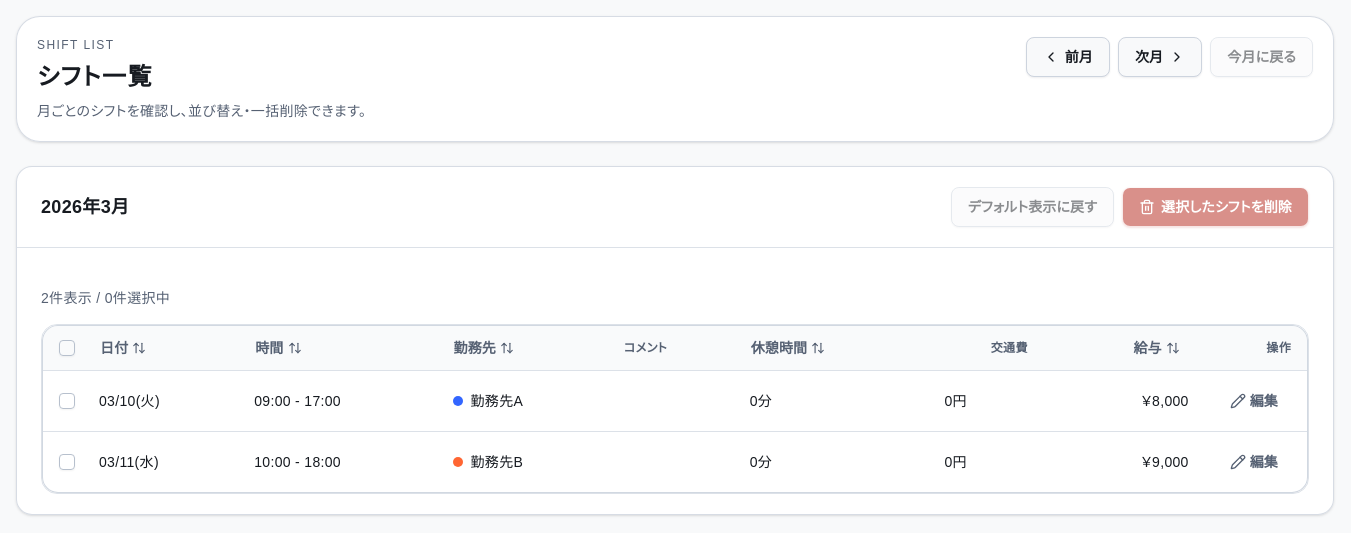
Test: ShiftListPageClient Undo deletion › waits for month-query cancellation before removing selected shifts
Expected: the row "03/10(火) 09:00 - 17:00 勤務先A 0分 0円 ￥8,000 編集" is shown, left=43, top=370, right=1307, bottom=431
Click the checkbox named "03/10(火)のシフトを選択".
click(67, 400)  # box left=59, top=392, right=75, bottom=408
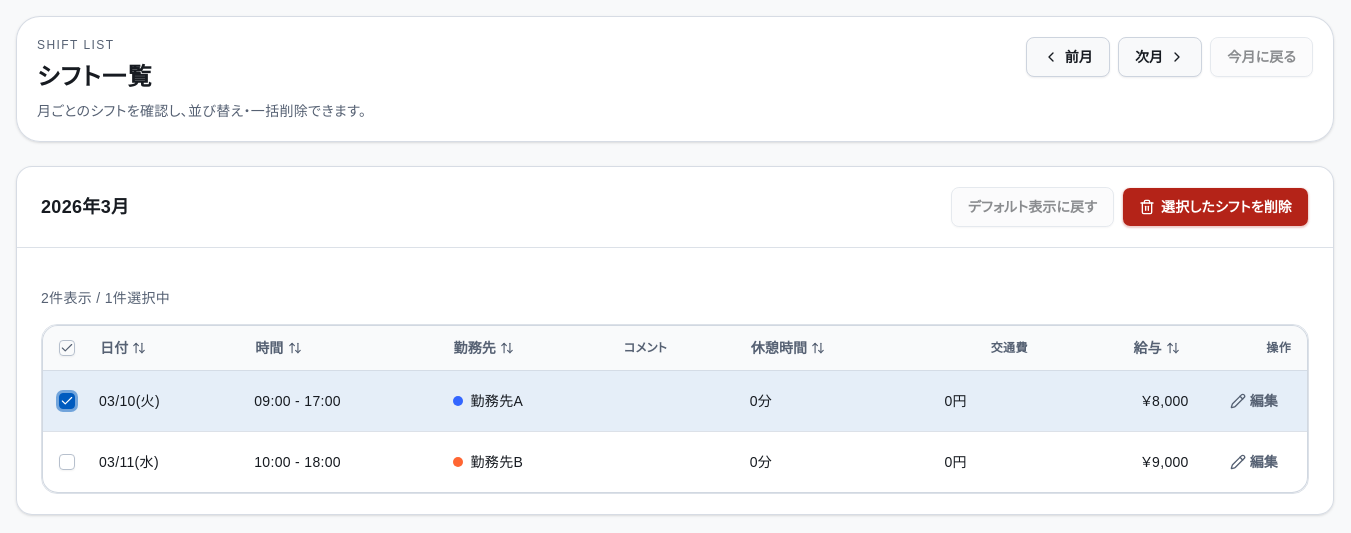
Click the button "選択したシフトを削除".
click(1216, 207)  # box left=1122, top=187, right=1309, bottom=227
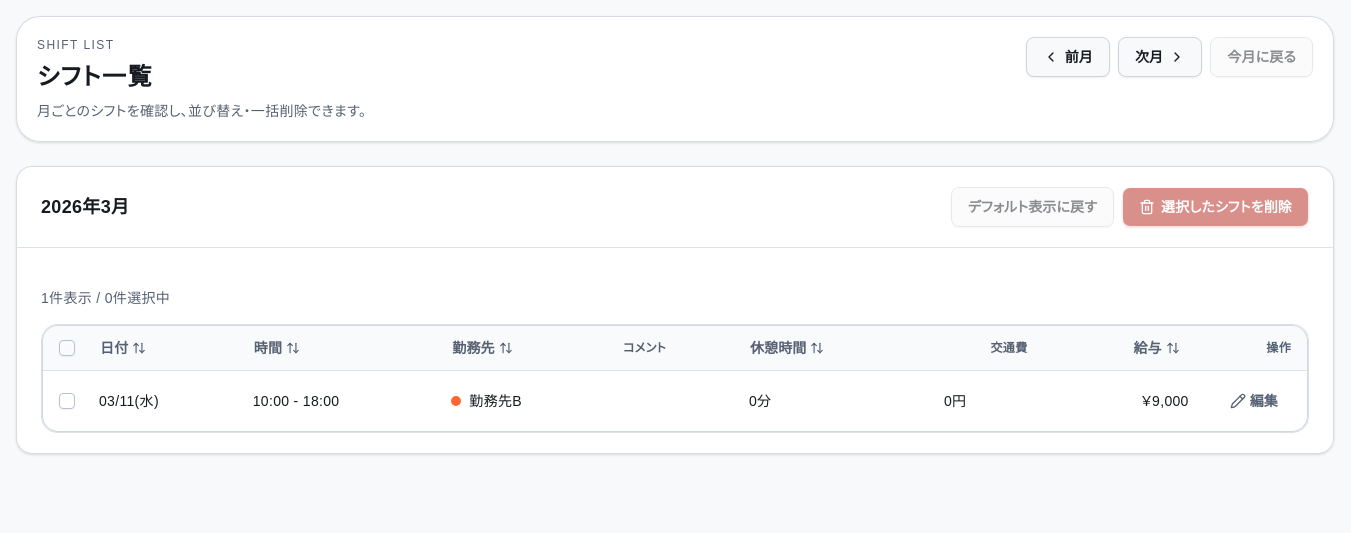
Expected: the row "03/11(水) 10:00 - 18:00 勤務先B 0分 0円 ￥9,000 編集" is shown, left=43, top=370, right=1307, bottom=430
Expected: the text "勤務先A" is gone
